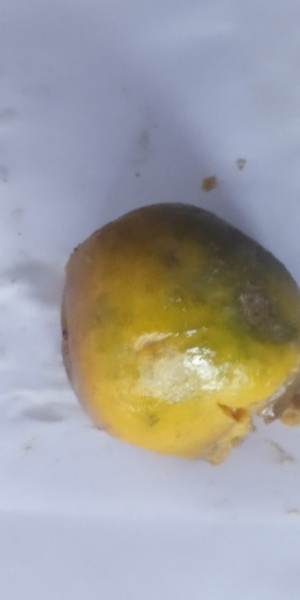BAD: (61, 204, 300, 467)
